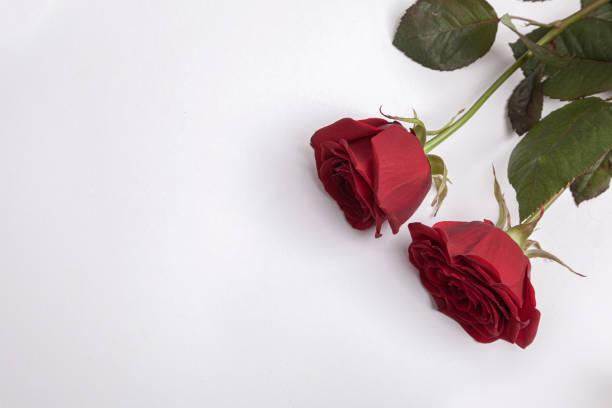organic: (399, 214, 542, 354), (301, 108, 439, 234)
